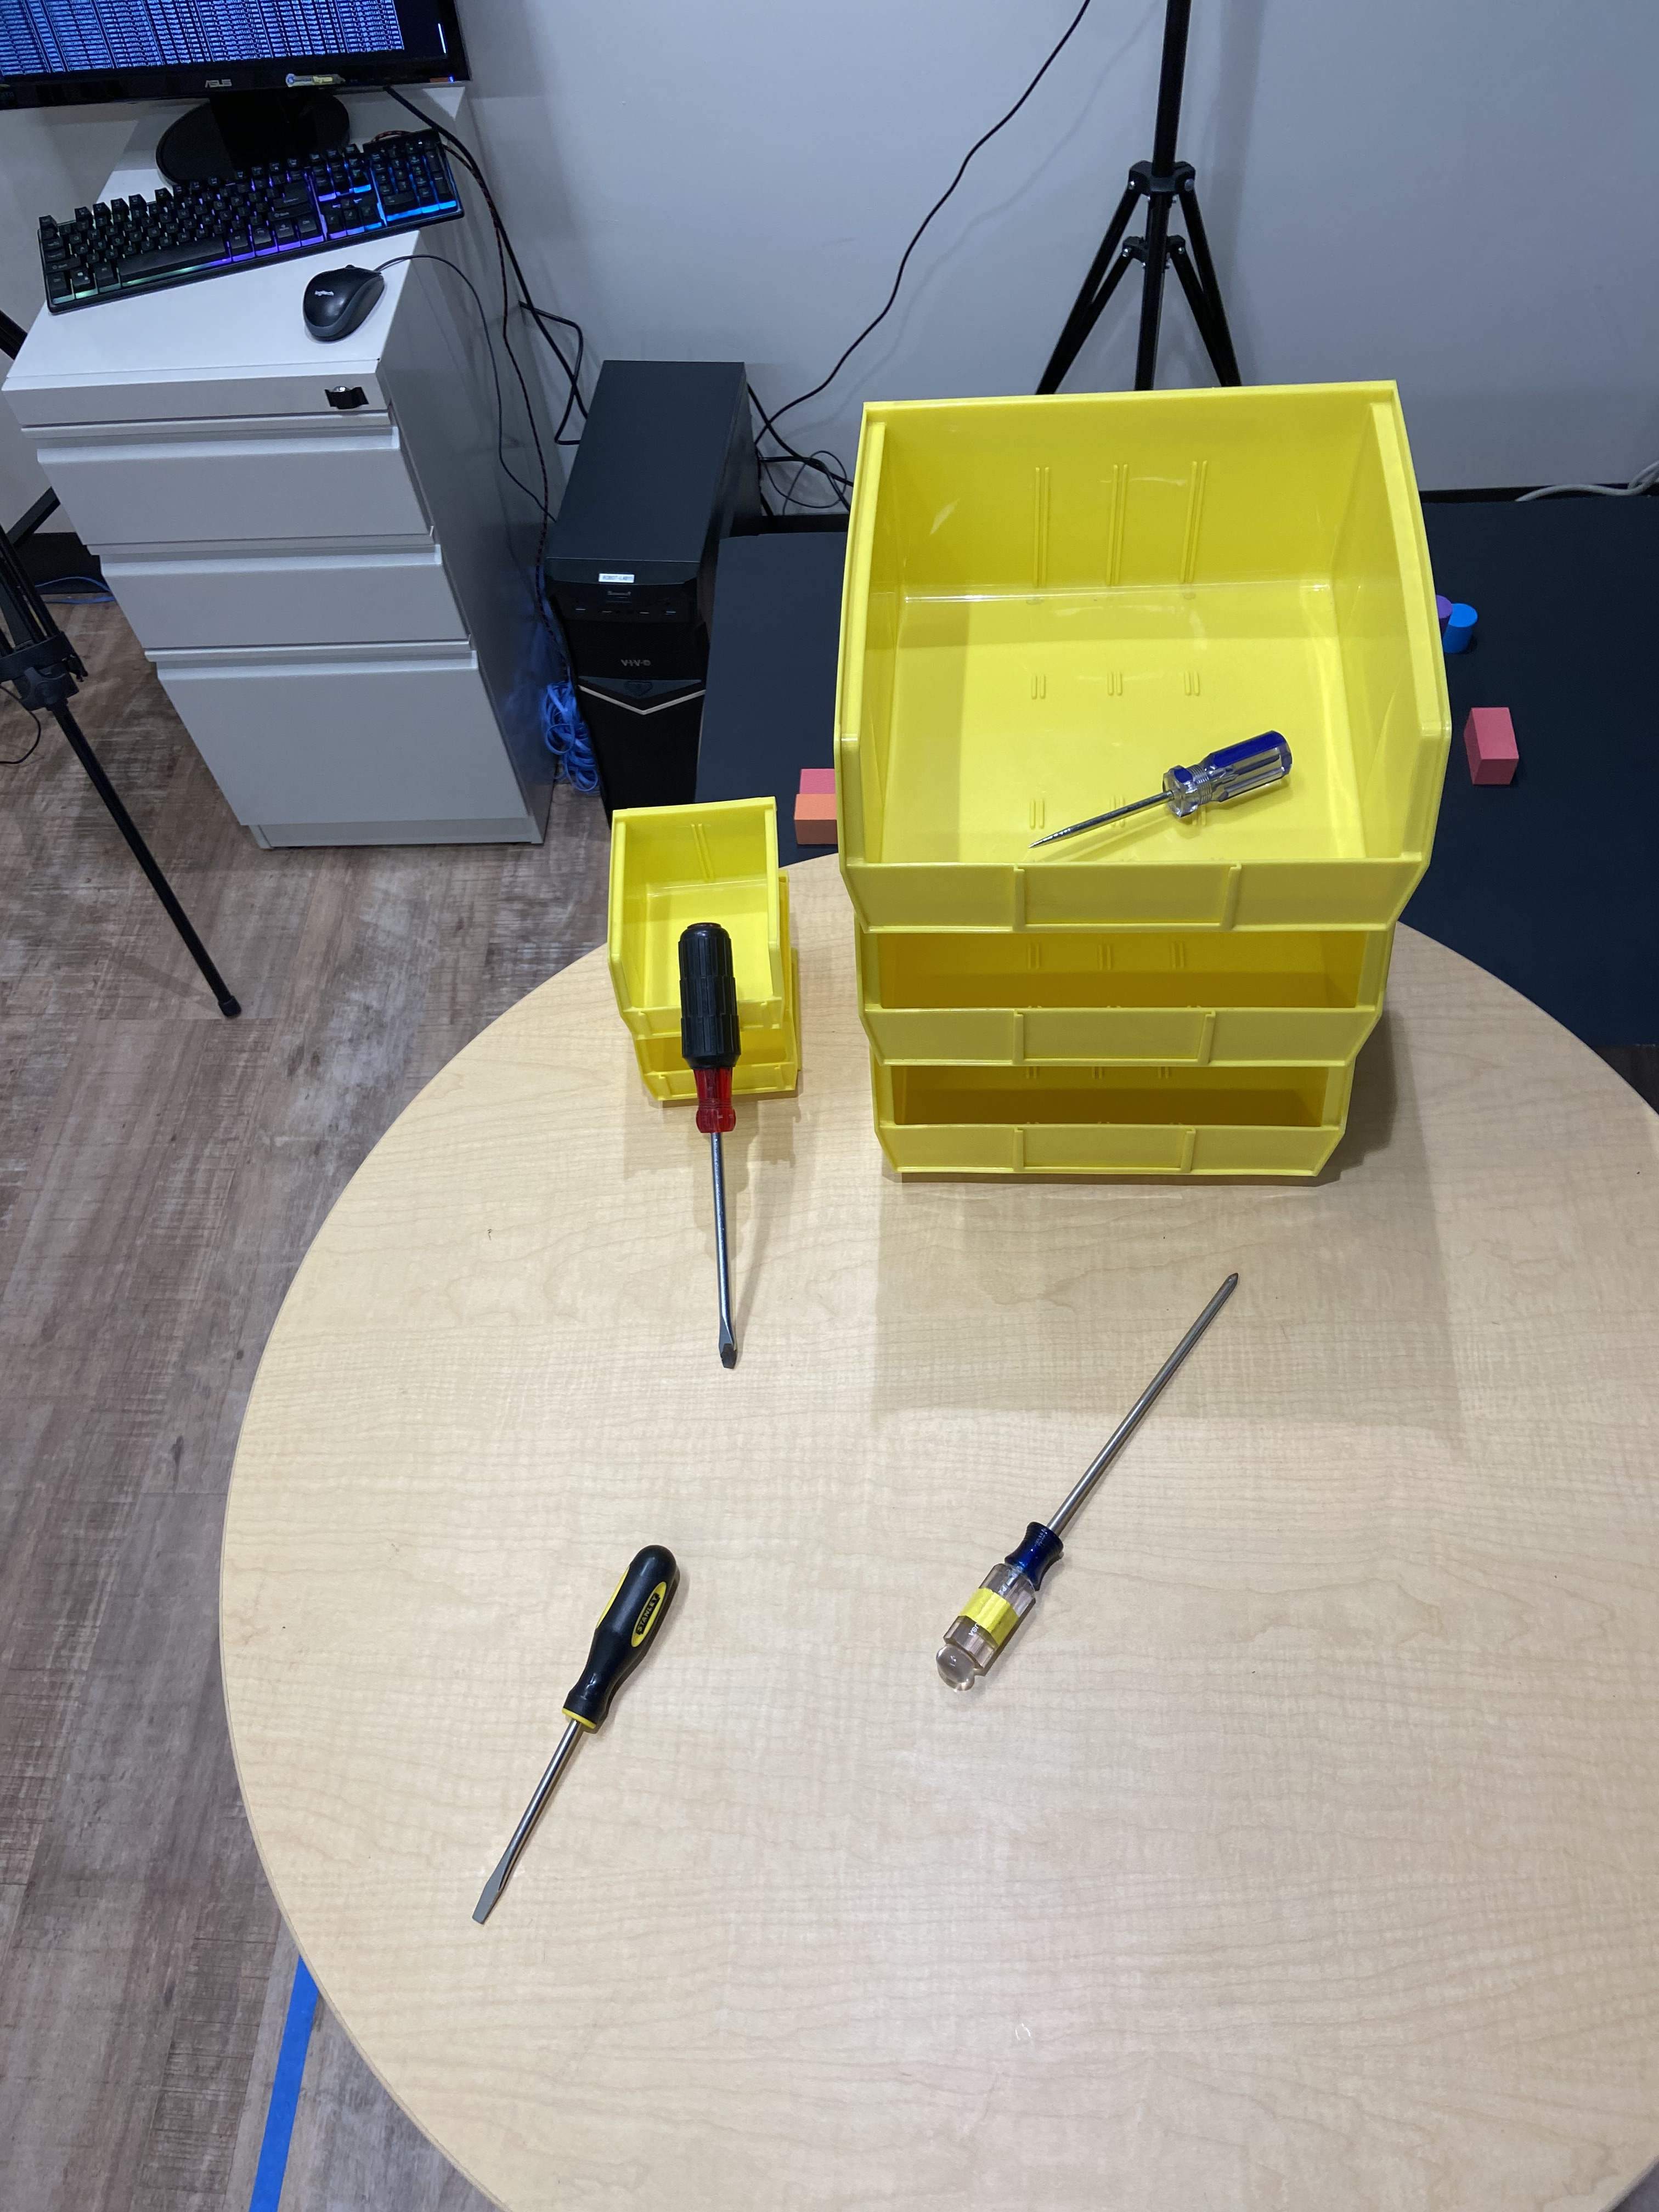screwdriver: (932, 1273, 1239, 1693), (474, 1545, 681, 1926), (674, 914, 770, 1378), (1032, 728, 1307, 845)
